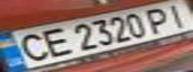0: (124, 10, 151, 38)
2: (69, 20, 97, 52), (109, 12, 133, 44)
3: (90, 16, 115, 47)
C: (6, 29, 54, 63)
E: (33, 25, 75, 58)
I: (157, 1, 193, 28)
P: (139, 4, 178, 34)
